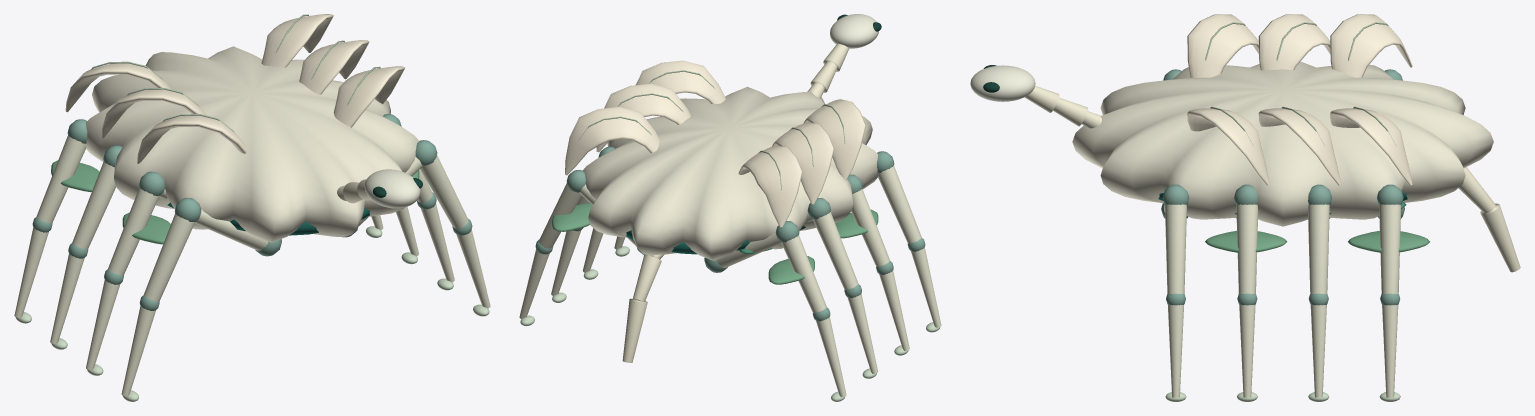
Rendered from body.glb.
3 views of the same model, side by side, from view 1: azimuth 30°, elevation 25°; view 2: azimuth 150°, elevation 25°; view 3: azimuth 270°, elevation 25° (orthographic). The views are drawn at different scales.
Visible parts, largest first — view 1: surface2, surface11, surface3, surface7, surface31, surface45, surface73, surface59, surface78, surface13, surface24, surface9 (+14 smaller); view 2: surface2, surface3, surface5, surface9, surface13, surface11, surface7, surface59, surface31, surface73, surface78, surface45 (+16 smaller); view 3: surface2, surface5, surface13, surface9, surface11, surface3, surface7, surface24, surface52, surface66, surface38, surface78 (+10 smaller).
Boxes of the visible parts, x1=… form: surface2: x1=85, y1=46, x2=419, y2=242; surface11: x1=333, y1=66, x2=404, y2=127; surface3: x1=261, y1=14, x2=333, y2=67; surface7: x1=299, y1=40, x2=369, y2=94; surface31: x1=143, y1=213, x2=195, y2=302; surface45: x1=108, y1=187, x2=159, y2=275; surface73: x1=36, y1=135, x2=86, y2=223; surface59: x1=72, y1=161, x2=115, y2=249; surface78: x1=364, y1=169, x2=420, y2=208; surface13: x1=137, y1=115, x2=247, y2=163; surface24: x1=420, y1=155, x2=468, y2=228; surface9: x1=101, y1=89, x2=206, y2=138; surface2: x1=582, y1=86, x2=877, y2=260; surface3: x1=565, y1=107, x2=659, y2=175; surface5: x1=738, y1=145, x2=802, y2=227; surface9: x1=772, y1=122, x2=834, y2=204; surface13: x1=803, y1=99, x2=865, y2=180; surface11: x1=636, y1=60, x2=725, y2=103; surface7: x1=596, y1=83, x2=690, y2=152; surface59: x1=813, y1=212, x2=858, y2=290; surface31: x1=878, y1=165, x2=921, y2=243; surface73: x1=781, y1=235, x2=826, y2=313; surface78: x1=830, y1=14, x2=878, y2=48; surface45: x1=851, y1=189, x2=890, y2=266; surface2: x1=1072, y1=61, x2=1493, y2=226; surface5: x1=1330, y1=14, x2=1412, y2=77; surface13: x1=1187, y1=14, x2=1258, y2=77; surface9: x1=1258, y1=14, x2=1330, y2=70; surface11: x1=1187, y1=108, x2=1268, y2=185; surface3: x1=1330, y1=108, x2=1412, y2=185; surface7: x1=1258, y1=108, x2=1340, y2=185; surface24: x1=1165, y1=204, x2=1186, y2=293; surface52: x1=1308, y1=204, x2=1329, y2=293; surface66: x1=1379, y1=204, x2=1401, y2=293; surface38: x1=1236, y1=204, x2=1258, y2=293; surface78: x1=970, y1=65, x2=1035, y2=101.
Bounding box in the file's own units: 11.97 × 7.74 × 15.51.
